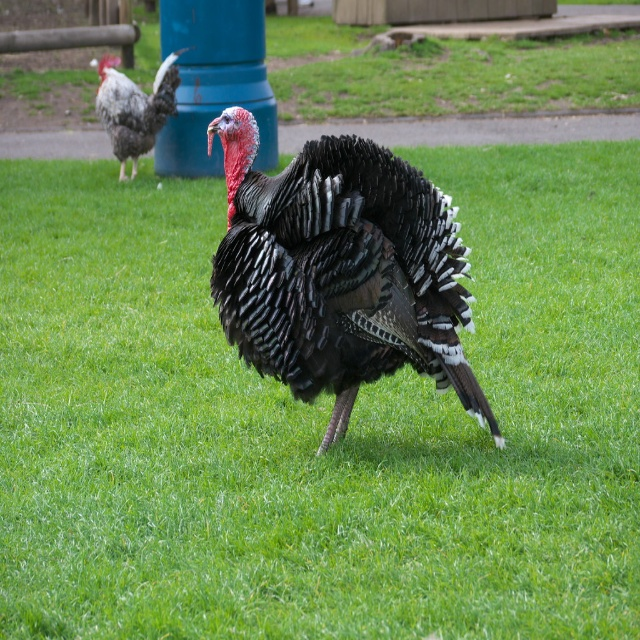Turkey: (207, 106, 507, 463), (94, 47, 194, 181)
